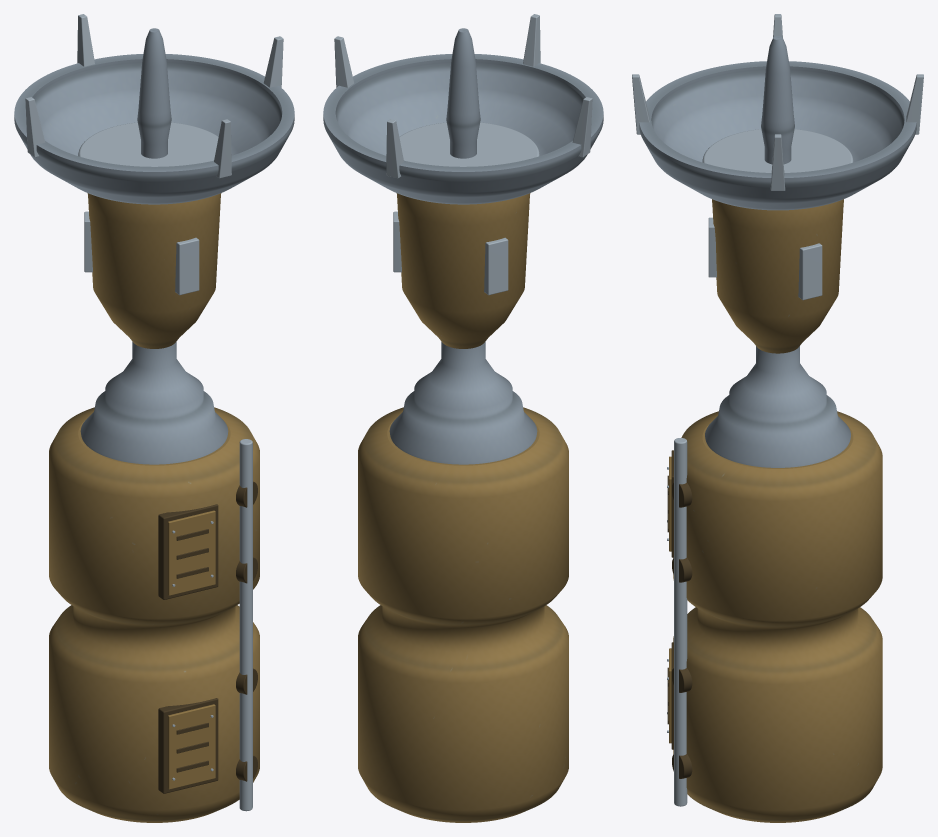
The picture shows the model from 3 angles, left to right: view 1: azimuth 30°, elevation 25°; view 2: azimuth 150°, elevation 25°; view 3: azimuth 270°, elevation 25°; orthographic projection.
Visible parts, largest first — view 1: RI14 twin chamber lower body, RI14 open upturned crown, RI14 bronze upper vessel, RI14 tapered grey connector, RI14 silver front conduit, RI14 crown floor, RI14 central crown probe, RI14 service panel 1, RI14 service panel 0, RI14 service panel frame 1, RI14 service panel frame 0, RI14 upper vessel alloy inset 0 (+4 smaller); view 2: RI14 twin chamber lower body, RI14 open upturned crown, RI14 bronze upper vessel, RI14 tapered grey connector, RI14 crown floor, RI14 central crown probe, RI14 upper vessel alloy inset 2, RI14 crown upright 1, RI14 crown upright 2, RI14 crown upright 0, RI14 crown upright 3; view 3: RI14 twin chamber lower body, RI14 open upturned crown, RI14 bronze upper vessel, RI14 tapered grey connector, RI14 crown floor, RI14 silver front conduit, RI14 central crown probe, RI14 upper vessel alloy inset 1, RI14 crown upright 0, RI14 crown upright 1, RI14 crown upright 3.
Boxes of the visible parts, box(x1,y1,x2,y2) form: RI14 twin chamber lower body: box(49, 407, 259, 822); RI14 open upturned crown: box(14, 54, 294, 204); RI14 bronze upper vessel: box(87, 193, 221, 348); RI14 tapered grey connector: box(80, 341, 228, 464); RI14 silver front conduit: box(239, 439, 252, 811); RI14 crown floor: box(78, 122, 218, 166); RI14 central crown probe: box(137, 28, 171, 158); RI14 service panel 1: box(167, 510, 215, 595); RI14 service panel 0: box(167, 704, 215, 789); RI14 service panel frame 1: box(158, 504, 218, 599); RI14 service panel frame 0: box(158, 698, 218, 793); RI14 upper vessel alloy inset 0: box(175, 237, 199, 295); RI14 twin chamber lower body: box(358, 407, 568, 822); RI14 open upturned crown: box(323, 54, 603, 204); RI14 bronze upper vessel: box(396, 193, 530, 348); RI14 tapered grey connector: box(389, 341, 537, 464); RI14 crown floor: box(399, 122, 539, 166); RI14 central crown probe: box(446, 28, 480, 158); RI14 upper vessel alloy inset 2: box(484, 237, 508, 295); RI14 crown upright 1: box(386, 119, 403, 178); RI14 crown upright 2: box(572, 97, 592, 157); RI14 crown upright 0: box(334, 36, 354, 87); RI14 crown upright 3: box(523, 14, 540, 66); RI14 twin chamber lower body: box(673, 411, 882, 822); RI14 open upturned crown: box(639, 61, 916, 210); RI14 bronze upper vessel: box(712, 199, 843, 353); RI14 tapered grey connector: box(705, 346, 850, 467); RI14 crown floor: box(702, 129, 853, 172); RI14 silver front conduit: box(674, 438, 687, 806); RI14 central crown probe: box(761, 36, 794, 164); RI14 upper vessel alloy inset 1: box(798, 243, 822, 300); RI14 crown upright 0: box(770, 134, 785, 190); RI14 crown upright 1: box(906, 74, 923, 134); RI14 crown upright 3: box(632, 74, 649, 134).
Bounding box in the file's own units: 1.2 × 3.4 × 1.2.
7 materials, 4 textured.
